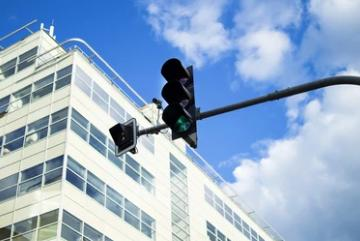green_light: (161, 58, 197, 140)
